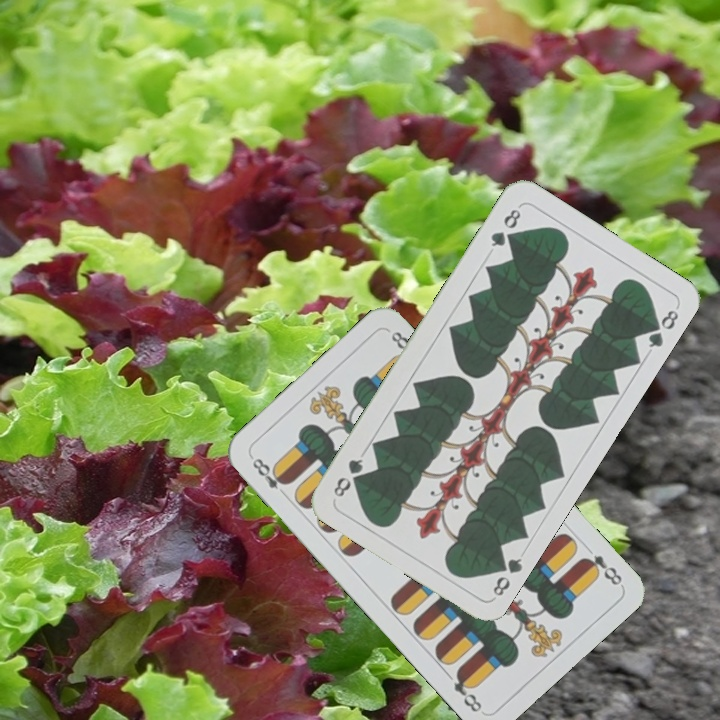E8: (247, 452, 292, 501), (577, 550, 625, 588)
G8: (488, 552, 525, 601), (486, 204, 524, 250)
